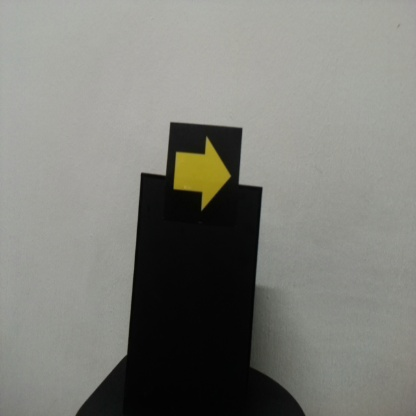id_3: (169, 125, 240, 221)
